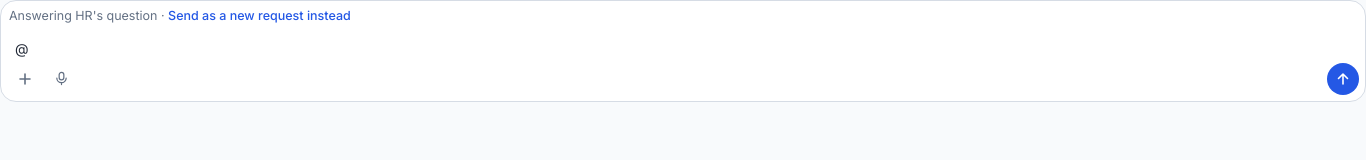
Test: Composer while a question is targeted › turns an automatic answer that mentions another agent into a new request
Expected: the text "Answering HR's question · Send as a new request instead" is shown, [9,7,351,26]
Expected: the button named "Send answer" is shown, [1327,63,1359,95]
Replace the text in the text box named "Message the workforce" with "@Support draft the reply" at point(684, 47), box [9,32,1359,63]
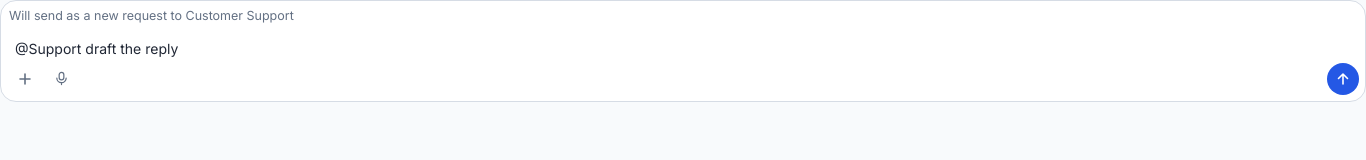
Expected: the button named "Send" is shown, [1327,63,1359,95]
Now the text "Will send as a new request to Customer Support" is shown, box [9,8,294,23]
